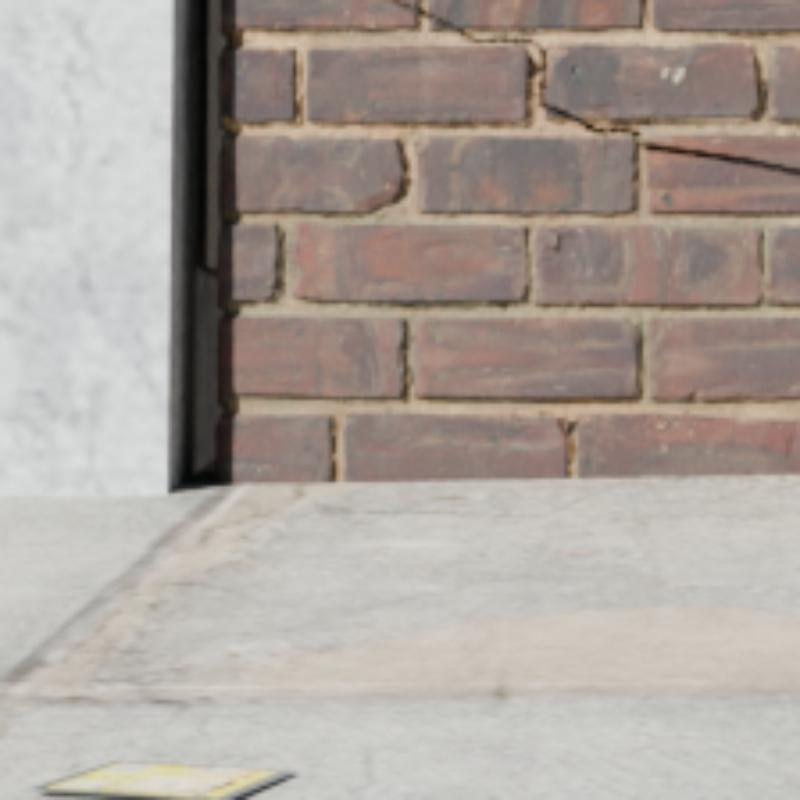crack: (539, 75, 796, 171), (386, 0, 540, 49)
